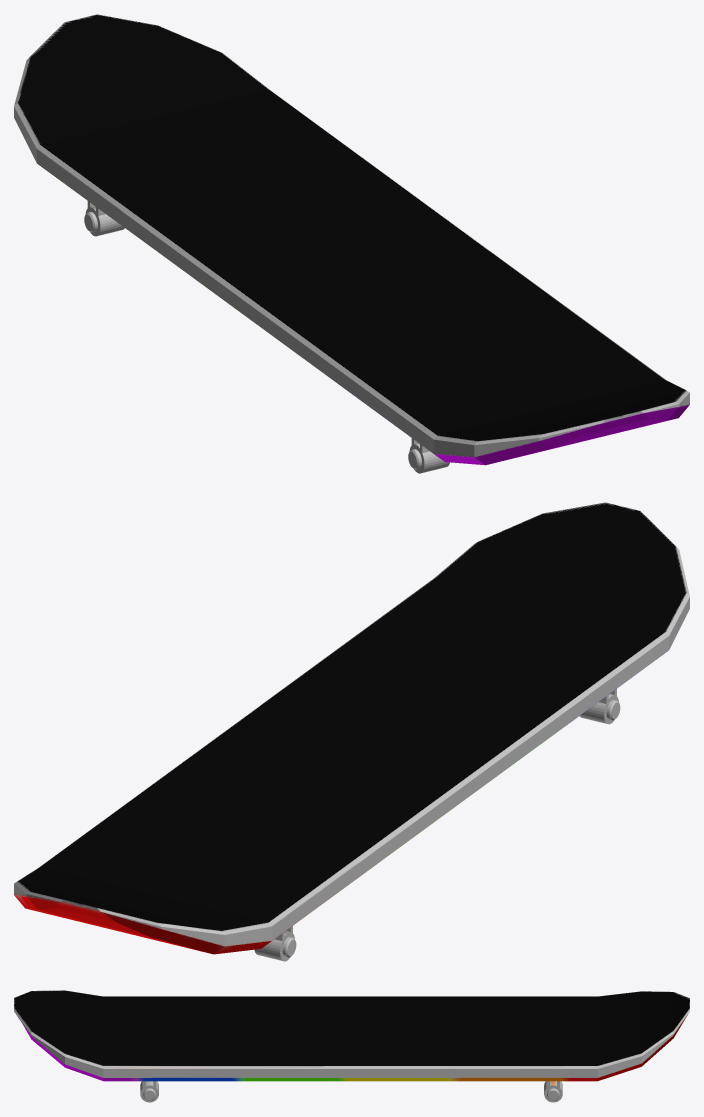
File: skateboard 1.glb
3 renders of one model, top to bottom at view 1: azimuth 30°, elevation 25°; view 2: azimuth 150°, elevation 25°; view 3: azimuth 270°, elevation 25°, orthographic. The views are drawn at different scales.
Visible parts, largest first — view 1: Cylinder; view 2: Cylinder; view 3: Cylinder.
Part boxes in pixels (x1=…): Cylinder: x1=14, y1=14, x2=689, y2=473; Cylinder: x1=14, y1=502, x2=689, y2=961; Cylinder: x1=14, y1=990, x2=689, y2=1102.
Bounding box in the file's own units: 1.11 × 0.5128 × 4.45.
Materials: 1 (1 with a texture image).
